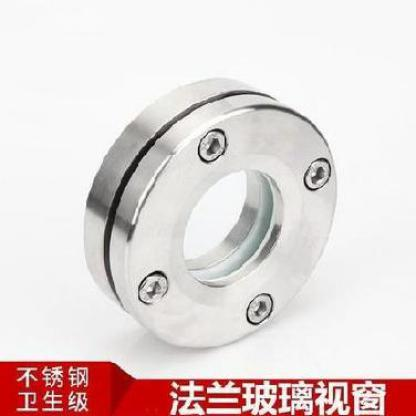FOD: (81, 72, 342, 356)
